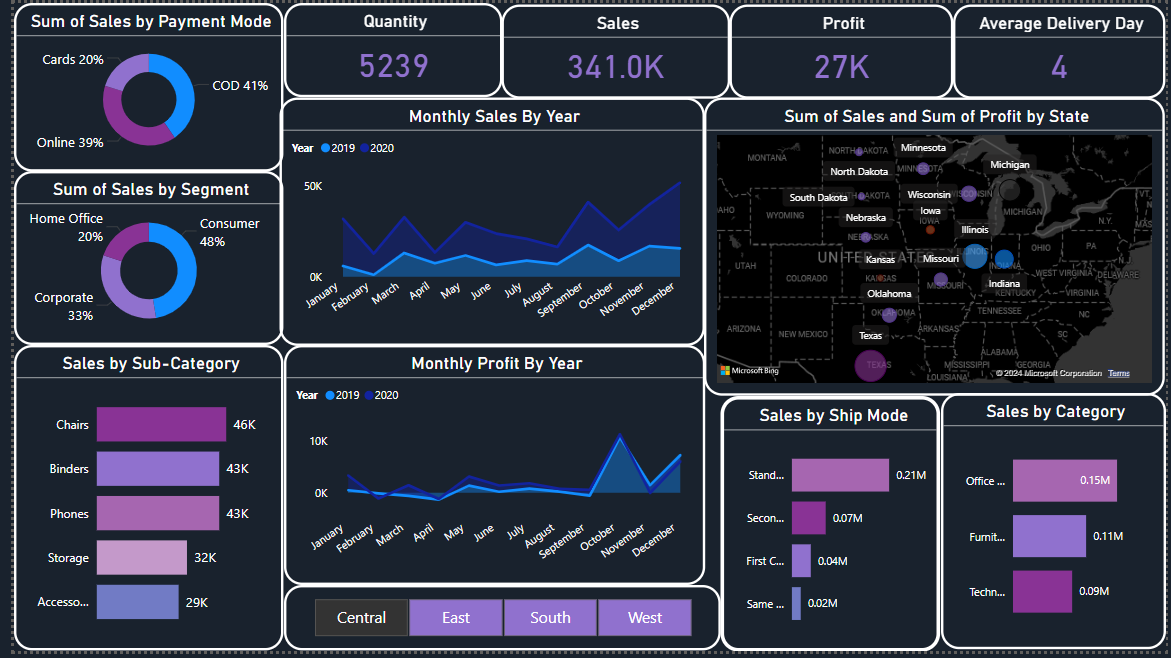

Layout of this report page (visuals, bound fields, positions):
{"tool":"powerbi","page":{"name":"Page 1","canvas":[1280,720],"ordinal":0},"visuals":[{"type":"clusteredBarChart","title":"Sales by Category","fields":{"Category":["SuperStore_Sales_Dataset.Category"],"Y":["Sum(SuperStore_Sales_Dataset.Sales)"]},"box":[1030.3,434.1,249.9,285],"z":0},{"type":"clusteredBarChart","title":"Sales by Sub-Category","fields":{"Y":["Sum(SuperStore_Sales_Dataset.Sales)"],"Category":["SuperStore_Sales_Dataset.Sub-Category"]},"box":[0,380.5,299.7,339.3],"z":1000},{"type":"clusteredBarChart","title":"Sales by Ship Mode","fields":{"Y":["Sum(SuperStore_Sales_Dataset.Sales)"],"Category":["SuperStore_Sales_Dataset.Ship Mode"]},"box":[784.8,436,244.2,283.8],"z":2000},{"type":"stackedAreaChart","title":" Monthly Sales By Year","fields":{"Y":["Sum(SuperStore_Sales_Dataset.Sales)"],"Category":["SuperStore_Sales_Dataset.Order Date.Variation.Date Hierarchy.Month","SuperStore_Sales_Dataset.Order Date.Variation.Date Hierarchy.Day"],"Series":["SuperStore_Sales_Dataset.Order Date.Variation.Date Hierarchy.Year"]},"box":[294.9,104.6,472.5,275.9],"z":3000},{"type":"stackedAreaChart","title":" Monthly Profit By Year","fields":{"Category":["SuperStore_Sales_Dataset.Order Date.Variation.Date Hierarchy.Month","SuperStore_Sales_Dataset.Order Date.Variation.Date Hierarchy.Day"],"Series":["SuperStore_Sales_Dataset.Order Date.Variation.Date Hierarchy.Year"],"Y":["Sum(SuperStore_Sales_Dataset.Profit)"]},"box":[299.7,380.5,467.7,266.4],"z":4000},{"type":"map","fields":{"Category":["SuperStore_Sales_Dataset.State"],"Size":["Sum(SuperStore_Sales_Dataset.Sales)"]},"box":[767.4,104.6,512.1,331.4],"z":5000},{"type":"donutChart","fields":{"Category":["SuperStore_Sales_Dataset.Segment"],"Y":["Sum(SuperStore_Sales_Dataset.Sales)"]},"box":[0,187.1,299.7,193.4],"z":6000},{"type":"donutChart","fields":{"Y":["Sum(SuperStore_Sales_Dataset.Sales)"],"Category":["SuperStore_Sales_Dataset.Payment Mode"]},"box":[0,0,299.7,187.1],"z":7000},{"type":"slicer","fields":{"Values":["SuperStore_Sales_Dataset.Region"]},"box":[299.7,646.9,485.2,72.9],"z":8000},{"type":"card","title":"Sales","fields":{"Values":["Sum(SuperStore_Sales_Dataset.Sales)"]},"box":[542.2,1.6,253.7,104.6],"z":9000},{"type":"card","title":"Quantity","fields":{"Values":["Sum(SuperStore_Sales_Dataset.Quantity)"]},"box":[299.7,0,242.6,104.6],"z":10000},{"type":"card","title":"Profit","fields":{"Values":["Sum(SuperStore_Sales_Dataset.Profit)"]},"box":[794.3,1.6,248.9,104.6],"z":11000},{"type":"card","title":"Average Delivery Day","fields":{"Values":["Avg(SuperStore_Sales_Dataset.AvgDelivery)"]},"box":[1043.3,1.7,235,105],"z":12000}]}

Visuals, with their boxes in screenshot pixels (x1, y1, x2, y2), scaled from the page's 1280x720 canvas onto the 1171x658 screenshot:
"Sales by Category" clusteredBarChart: [left=943, top=397, right=1170, bottom=657]
"Sales by Sub-Category" clusteredBarChart: [left=0, top=348, right=274, bottom=657]
"Sales by Ship Mode" clusteredBarChart: [left=718, top=398, right=941, bottom=657]
" Monthly Sales By Year" stackedAreaChart: [left=270, top=96, right=702, bottom=348]
" Monthly Profit By Year" stackedAreaChart: [left=274, top=348, right=702, bottom=591]
map - SuperStore_Sales_Dataset.State x Sum(SuperStore_Sales_Dataset.Sales): [left=702, top=96, right=1170, bottom=398]
donutChart - SuperStore_Sales_Dataset.Segment x Sum(SuperStore_Sales_Dataset.Sales): [left=0, top=171, right=274, bottom=348]
donutChart - Sum(SuperStore_Sales_Dataset.Sales) x SuperStore_Sales_Dataset.Payment Mode: [left=0, top=0, right=274, bottom=171]
slicer - SuperStore_Sales_Dataset.Region: [left=274, top=591, right=718, bottom=657]
"Sales" card: [left=496, top=1, right=728, bottom=97]
"Quantity" card: [left=274, top=0, right=496, bottom=96]
"Profit" card: [left=727, top=1, right=954, bottom=97]
"Average Delivery Day" card: [left=954, top=2, right=1169, bottom=98]
